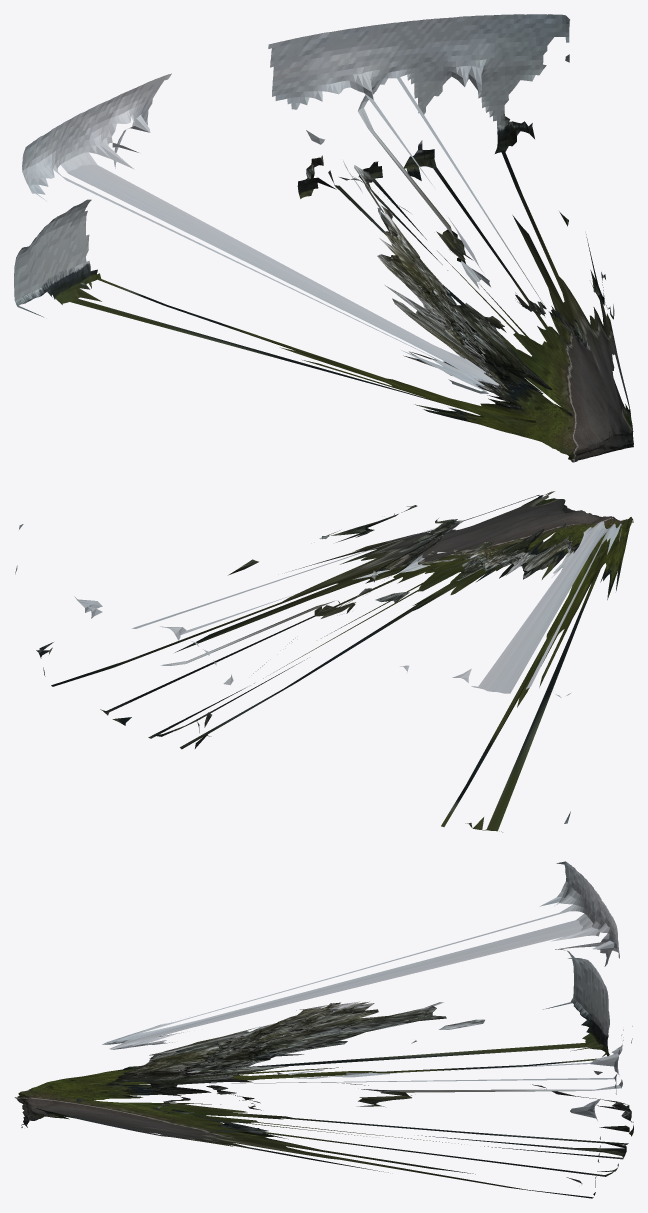
The picture shows the model from 3 angles, top to bottom: view 1: azimuth 30°, elevation 25°; view 2: azimuth 150°, elevation 25°; view 3: azimuth 270°, elevation 25°; orthographic projection. The views are drawn at different scales.
Parts seen in each view (by area): view 1: defaultobject; view 2: defaultobject; view 3: defaultobject.
Boxes of the visible parts, x1=… form: defaultobject: x1=14, y1=14, x2=633, y2=462; defaultobject: x1=15, y1=491, x2=633, y2=832; defaultobject: x1=14, y1=861, x2=633, y2=1198.
Size of the model in its own units: 40.92 by 13.41 by 44.61.
Materials: 1 (1 with a texture image).
